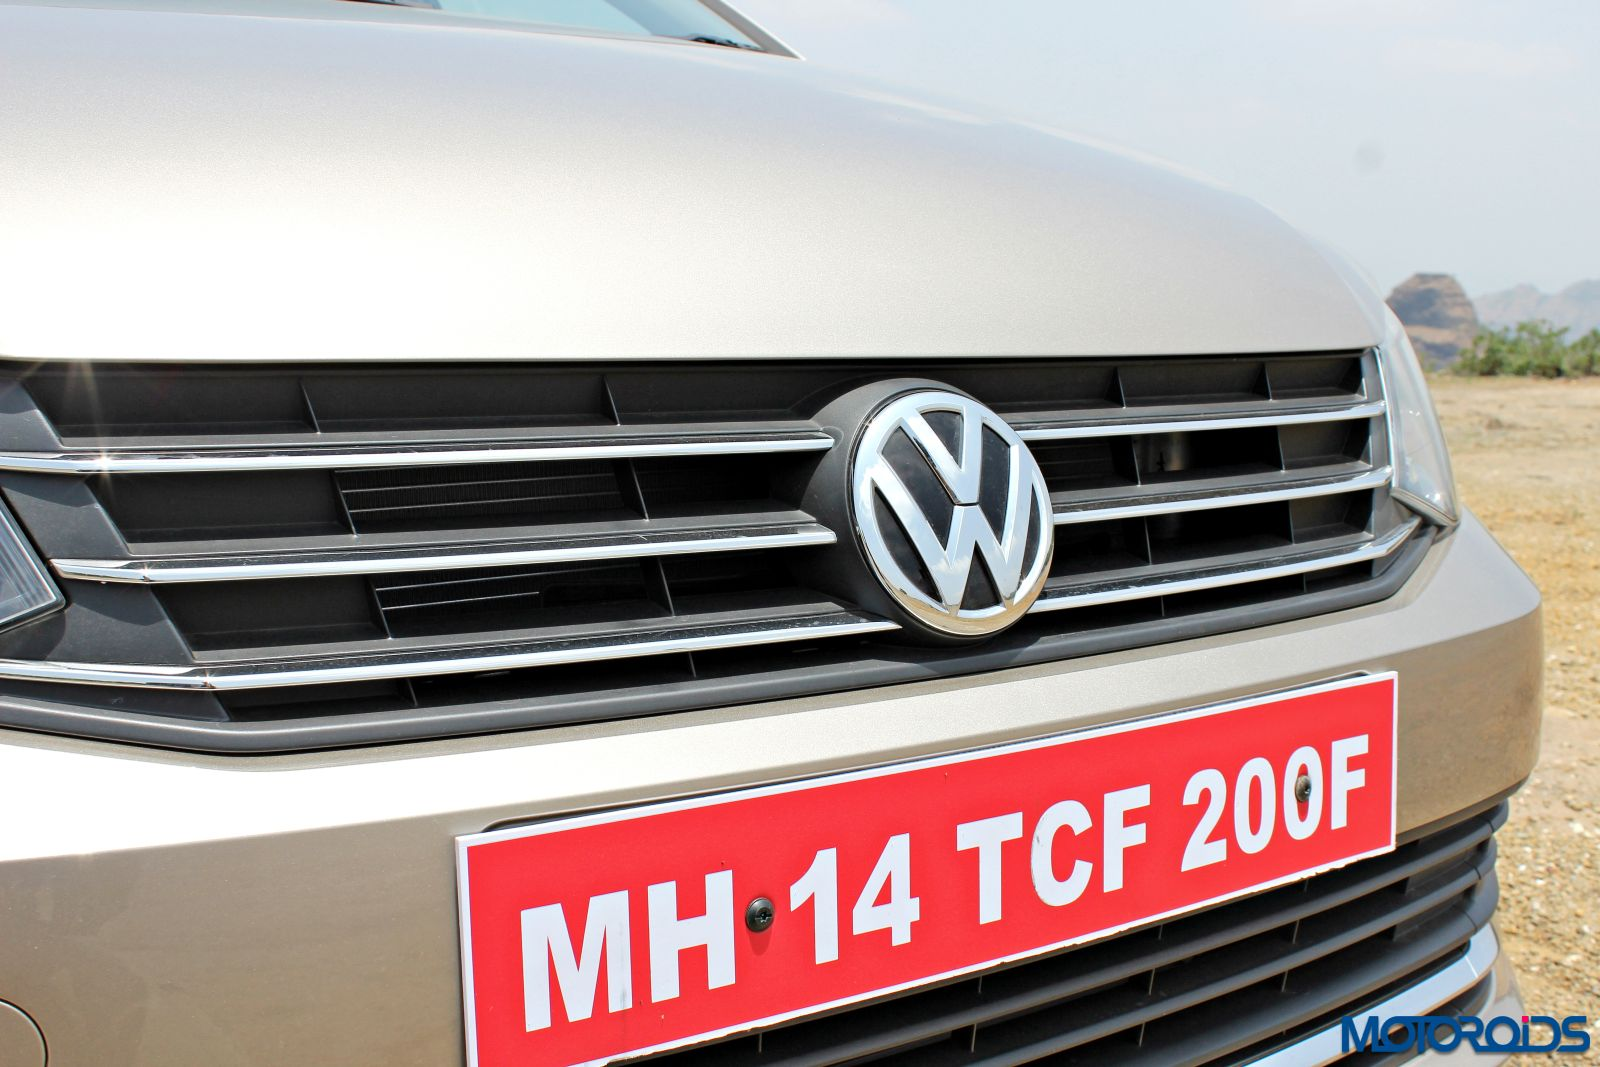number_plate: (424, 669, 1401, 1056)
